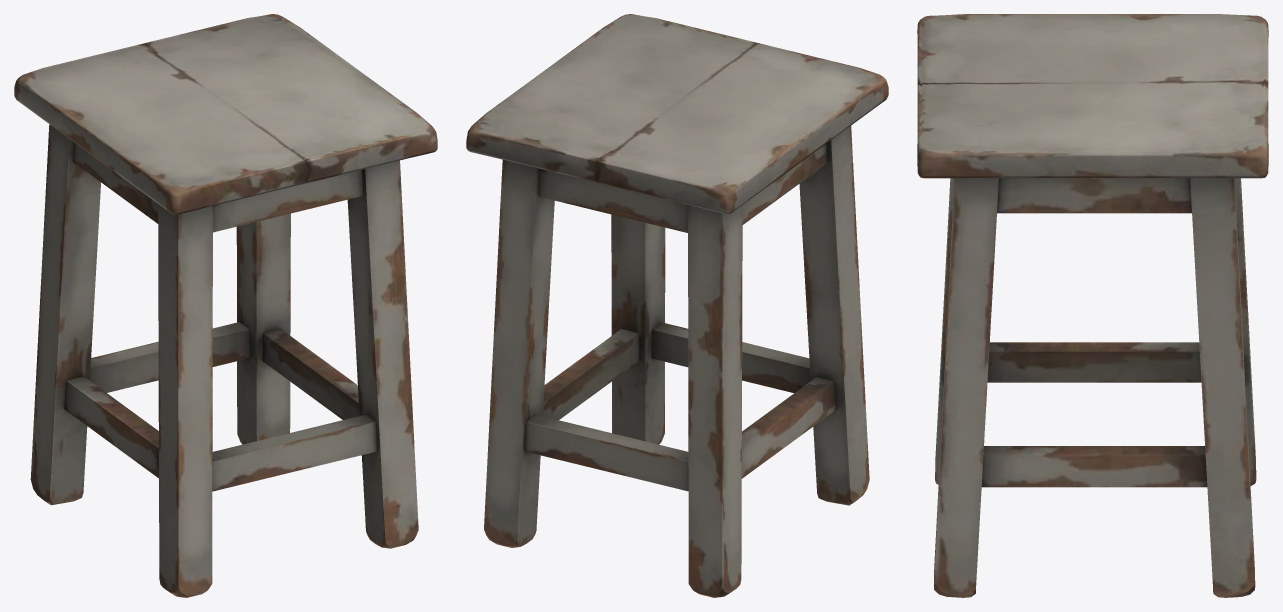
The model's file is painted_wooden_stool.glb.
The picture shows the model from 3 angles, left to right: view 1: azimuth 30°, elevation 25°; view 2: azimuth 150°, elevation 25°; view 3: azimuth 270°, elevation 25°; orthographic projection. The views are drawn at different scales.
Visible parts, largest first — view 1: painted_wooden_stool; view 2: painted_wooden_stool; view 3: painted_wooden_stool.
Boxes of the visible parts, bbox=[...] form: painted_wooden_stool: bbox=[14, 14, 437, 597]; painted_wooden_stool: bbox=[466, 14, 888, 597]; painted_wooden_stool: bbox=[917, 14, 1268, 597].
Size of the model in its own units: 0.3848 by 0.5789 by 0.406.
Materials: 1 (1 with a texture image).
